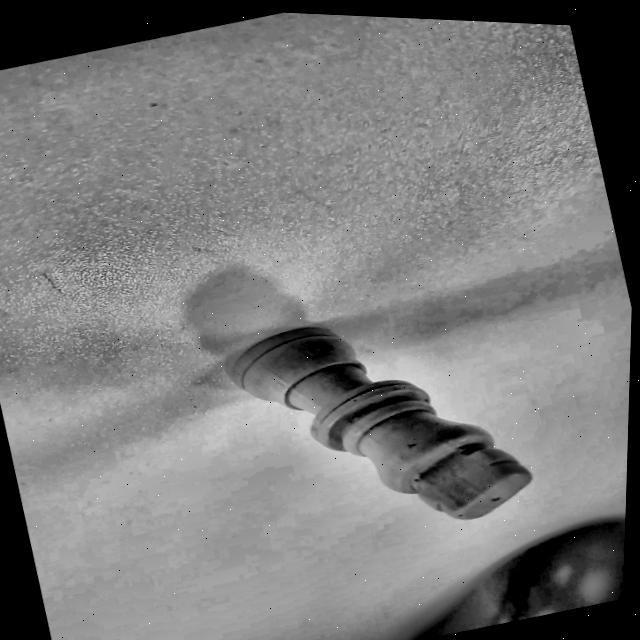white-king: (145, 216, 614, 613)
